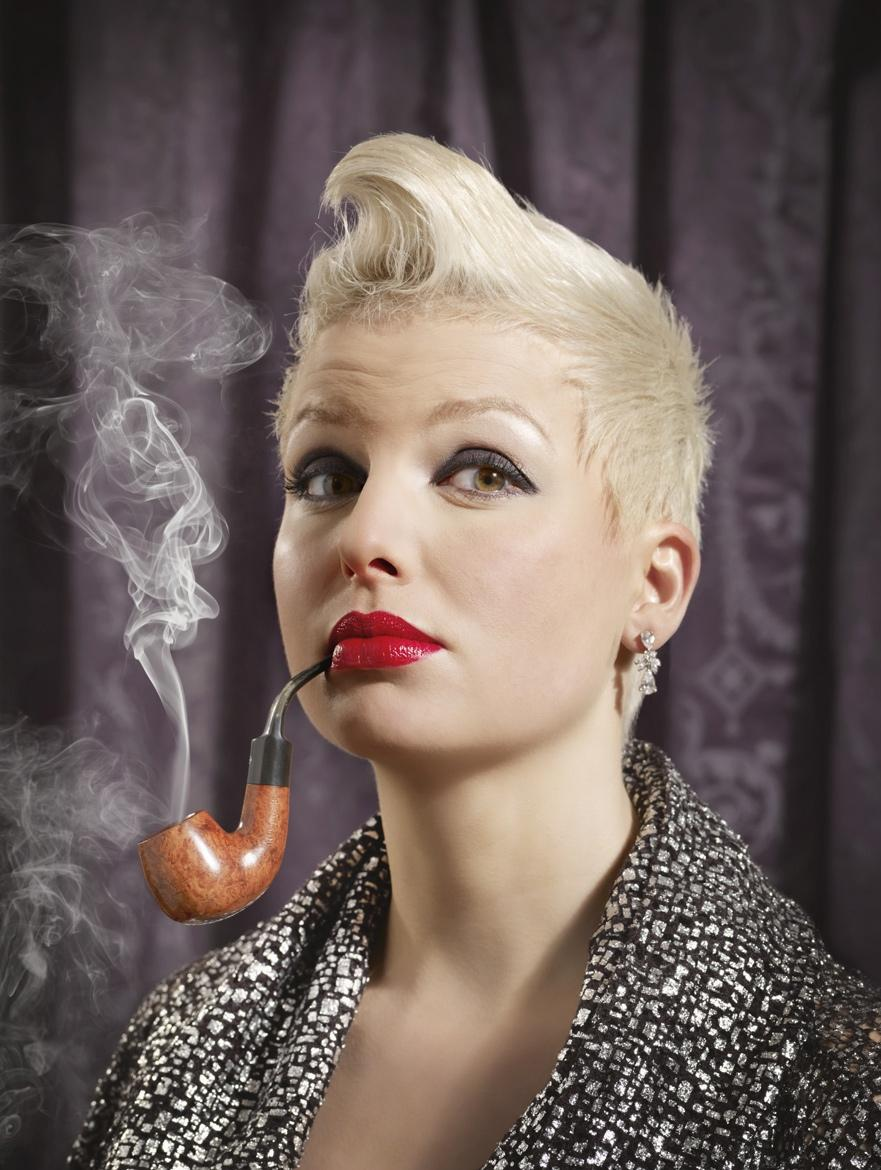trubka: (139, 658, 330, 923)
